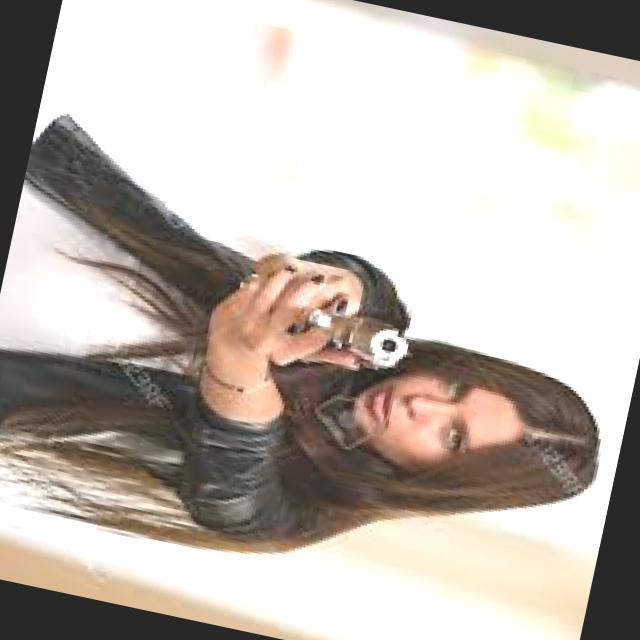handgun: (265, 298, 420, 387)
